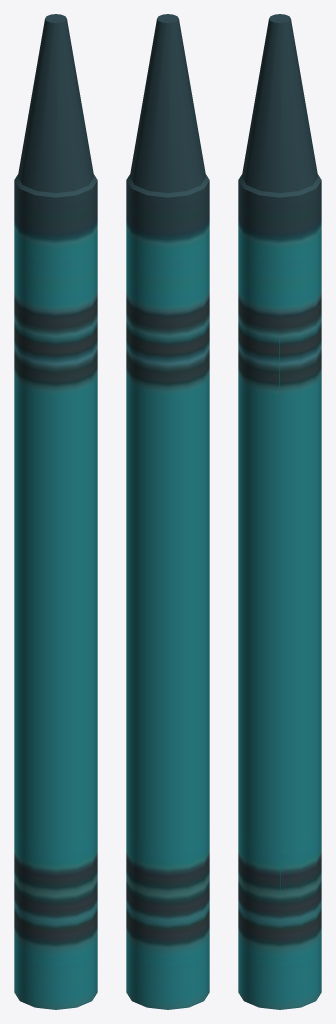
File: toy_crayon_green.glb
3 views of the same model, side by side, from view 1: azimuth 90°, elevation 25°; view 2: azimuth 210°, elevation 25°; view 3: azimuth 270°, elevation 25° (orthographic).
Parts seen in each view (by area): view 1: toy_crayon_green; view 2: toy_crayon_green; view 3: toy_crayon_green.
Boxes of the visible parts, bbox=[...] form: toy_crayon_green: bbox=[14, 14, 97, 1009]; toy_crayon_green: bbox=[126, 14, 209, 1009]; toy_crayon_green: bbox=[238, 14, 321, 1009].
Bounding box in the file's own units: 1.24 × 16 × 1.24.
Materials: 1 (1 with a texture image).
